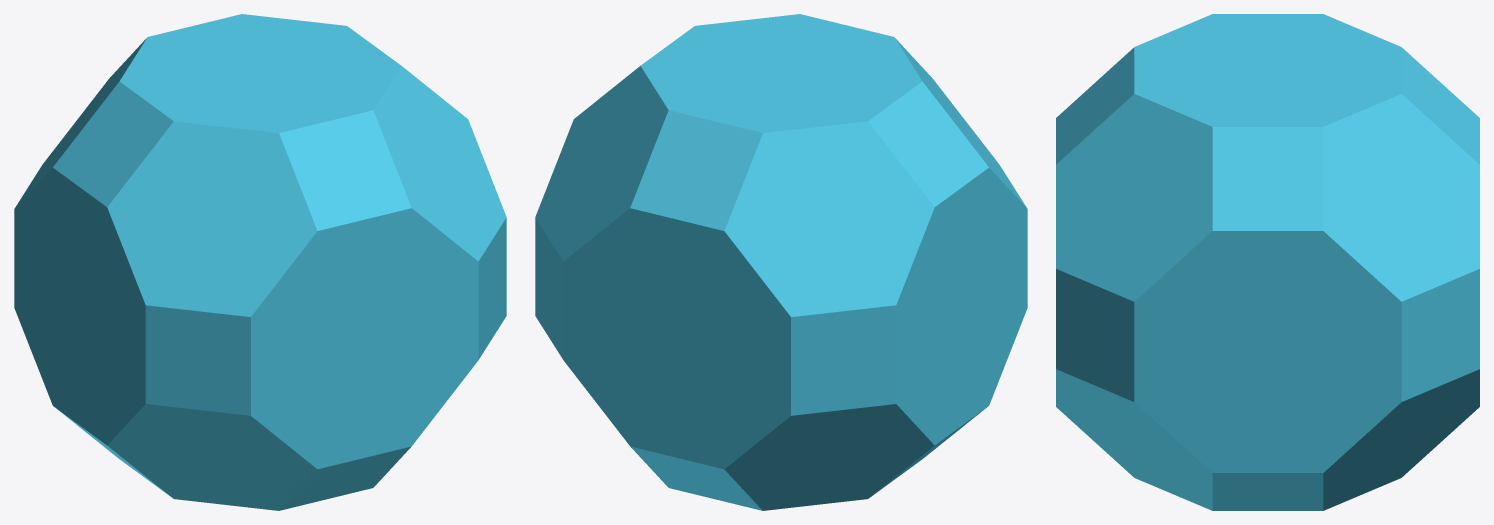
The model's file is fractaltruncatedcuboctahedron0.glb.
The picture shows the model from 3 angles, left to right: view 1: azimuth 30°, elevation 25°; view 2: azimuth 150°, elevation 25°; view 3: azimuth 270°, elevation 25°; orthographic projection.
Bounding box in the file's own units: 9.93 × 9.93 × 9.93.
